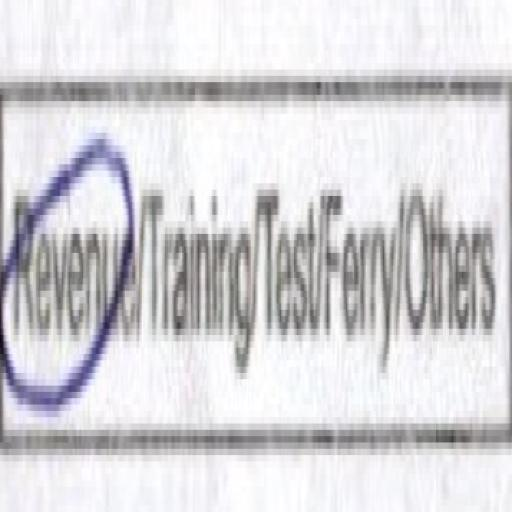check: (0, 25, 145, 512)
